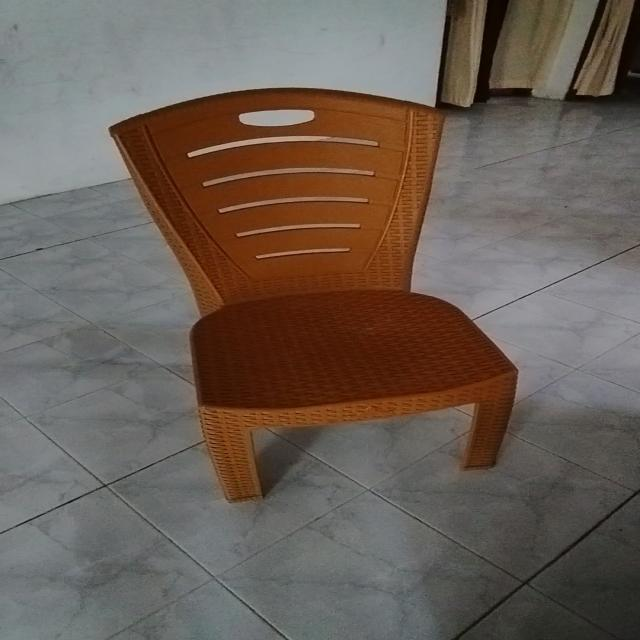chair: (75, 76, 575, 541)
